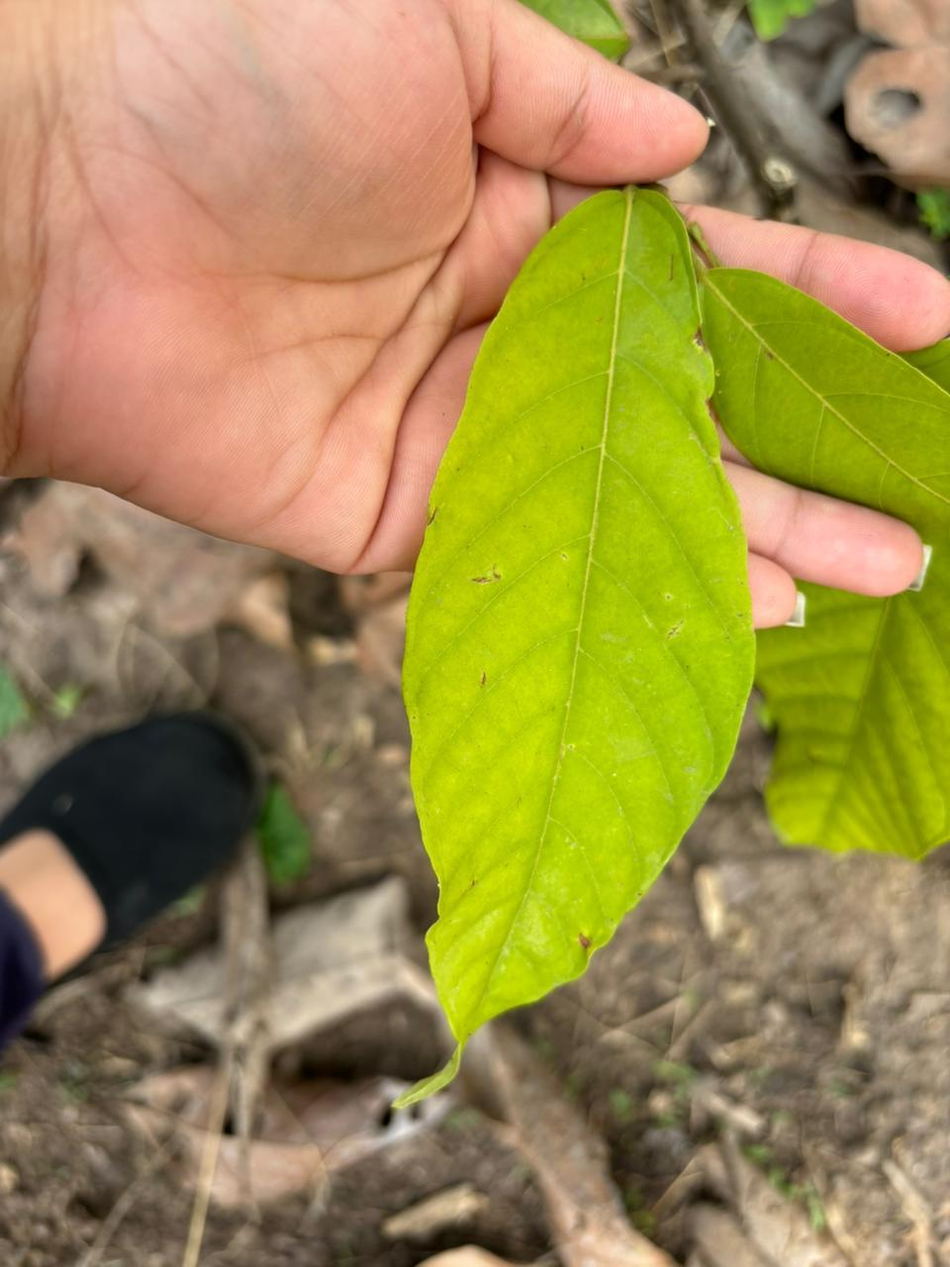Nitrogeno: (404, 188, 753, 1098)
